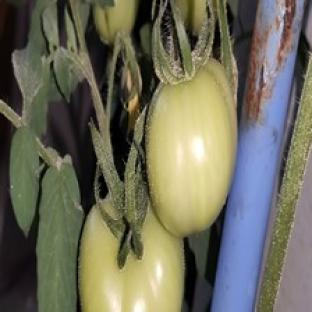Tomato: (147, 60, 236, 236), (78, 207, 183, 311)
